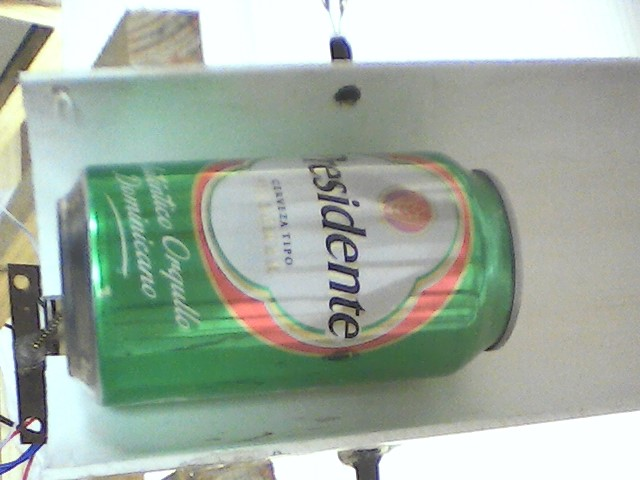lata: (54, 148, 530, 411)
